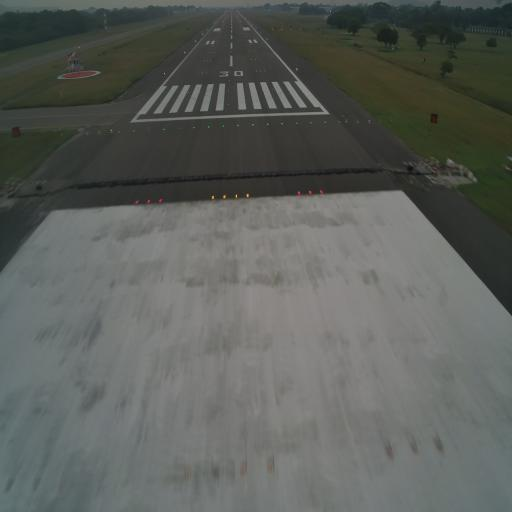off: (4, 470, 16, 500), (211, 462, 223, 489), (146, 126, 152, 133), (177, 126, 181, 131)
on: (238, 458, 250, 482), (264, 460, 278, 480), (185, 463, 195, 487), (134, 196, 140, 206), (158, 196, 164, 206), (307, 188, 313, 197), (146, 198, 152, 206), (210, 194, 216, 202), (318, 188, 324, 196), (367, 116, 372, 125), (84, 128, 89, 136), (294, 120, 299, 128), (323, 118, 328, 126), (246, 192, 251, 200), (296, 189, 301, 197), (206, 123, 211, 130), (221, 123, 226, 130), (337, 119, 342, 126), (234, 193, 239, 200), (250, 122, 255, 128), (265, 121, 270, 127), (236, 121, 240, 128), (280, 120, 284, 127), (309, 119, 313, 126), (109, 129, 114, 134), (116, 128, 120, 134), (132, 128, 136, 134), (162, 127, 166, 133), (192, 125, 196, 131), (356, 118, 360, 124), (222, 194, 226, 200), (98, 128, 101, 135), (345, 118, 348, 124)
